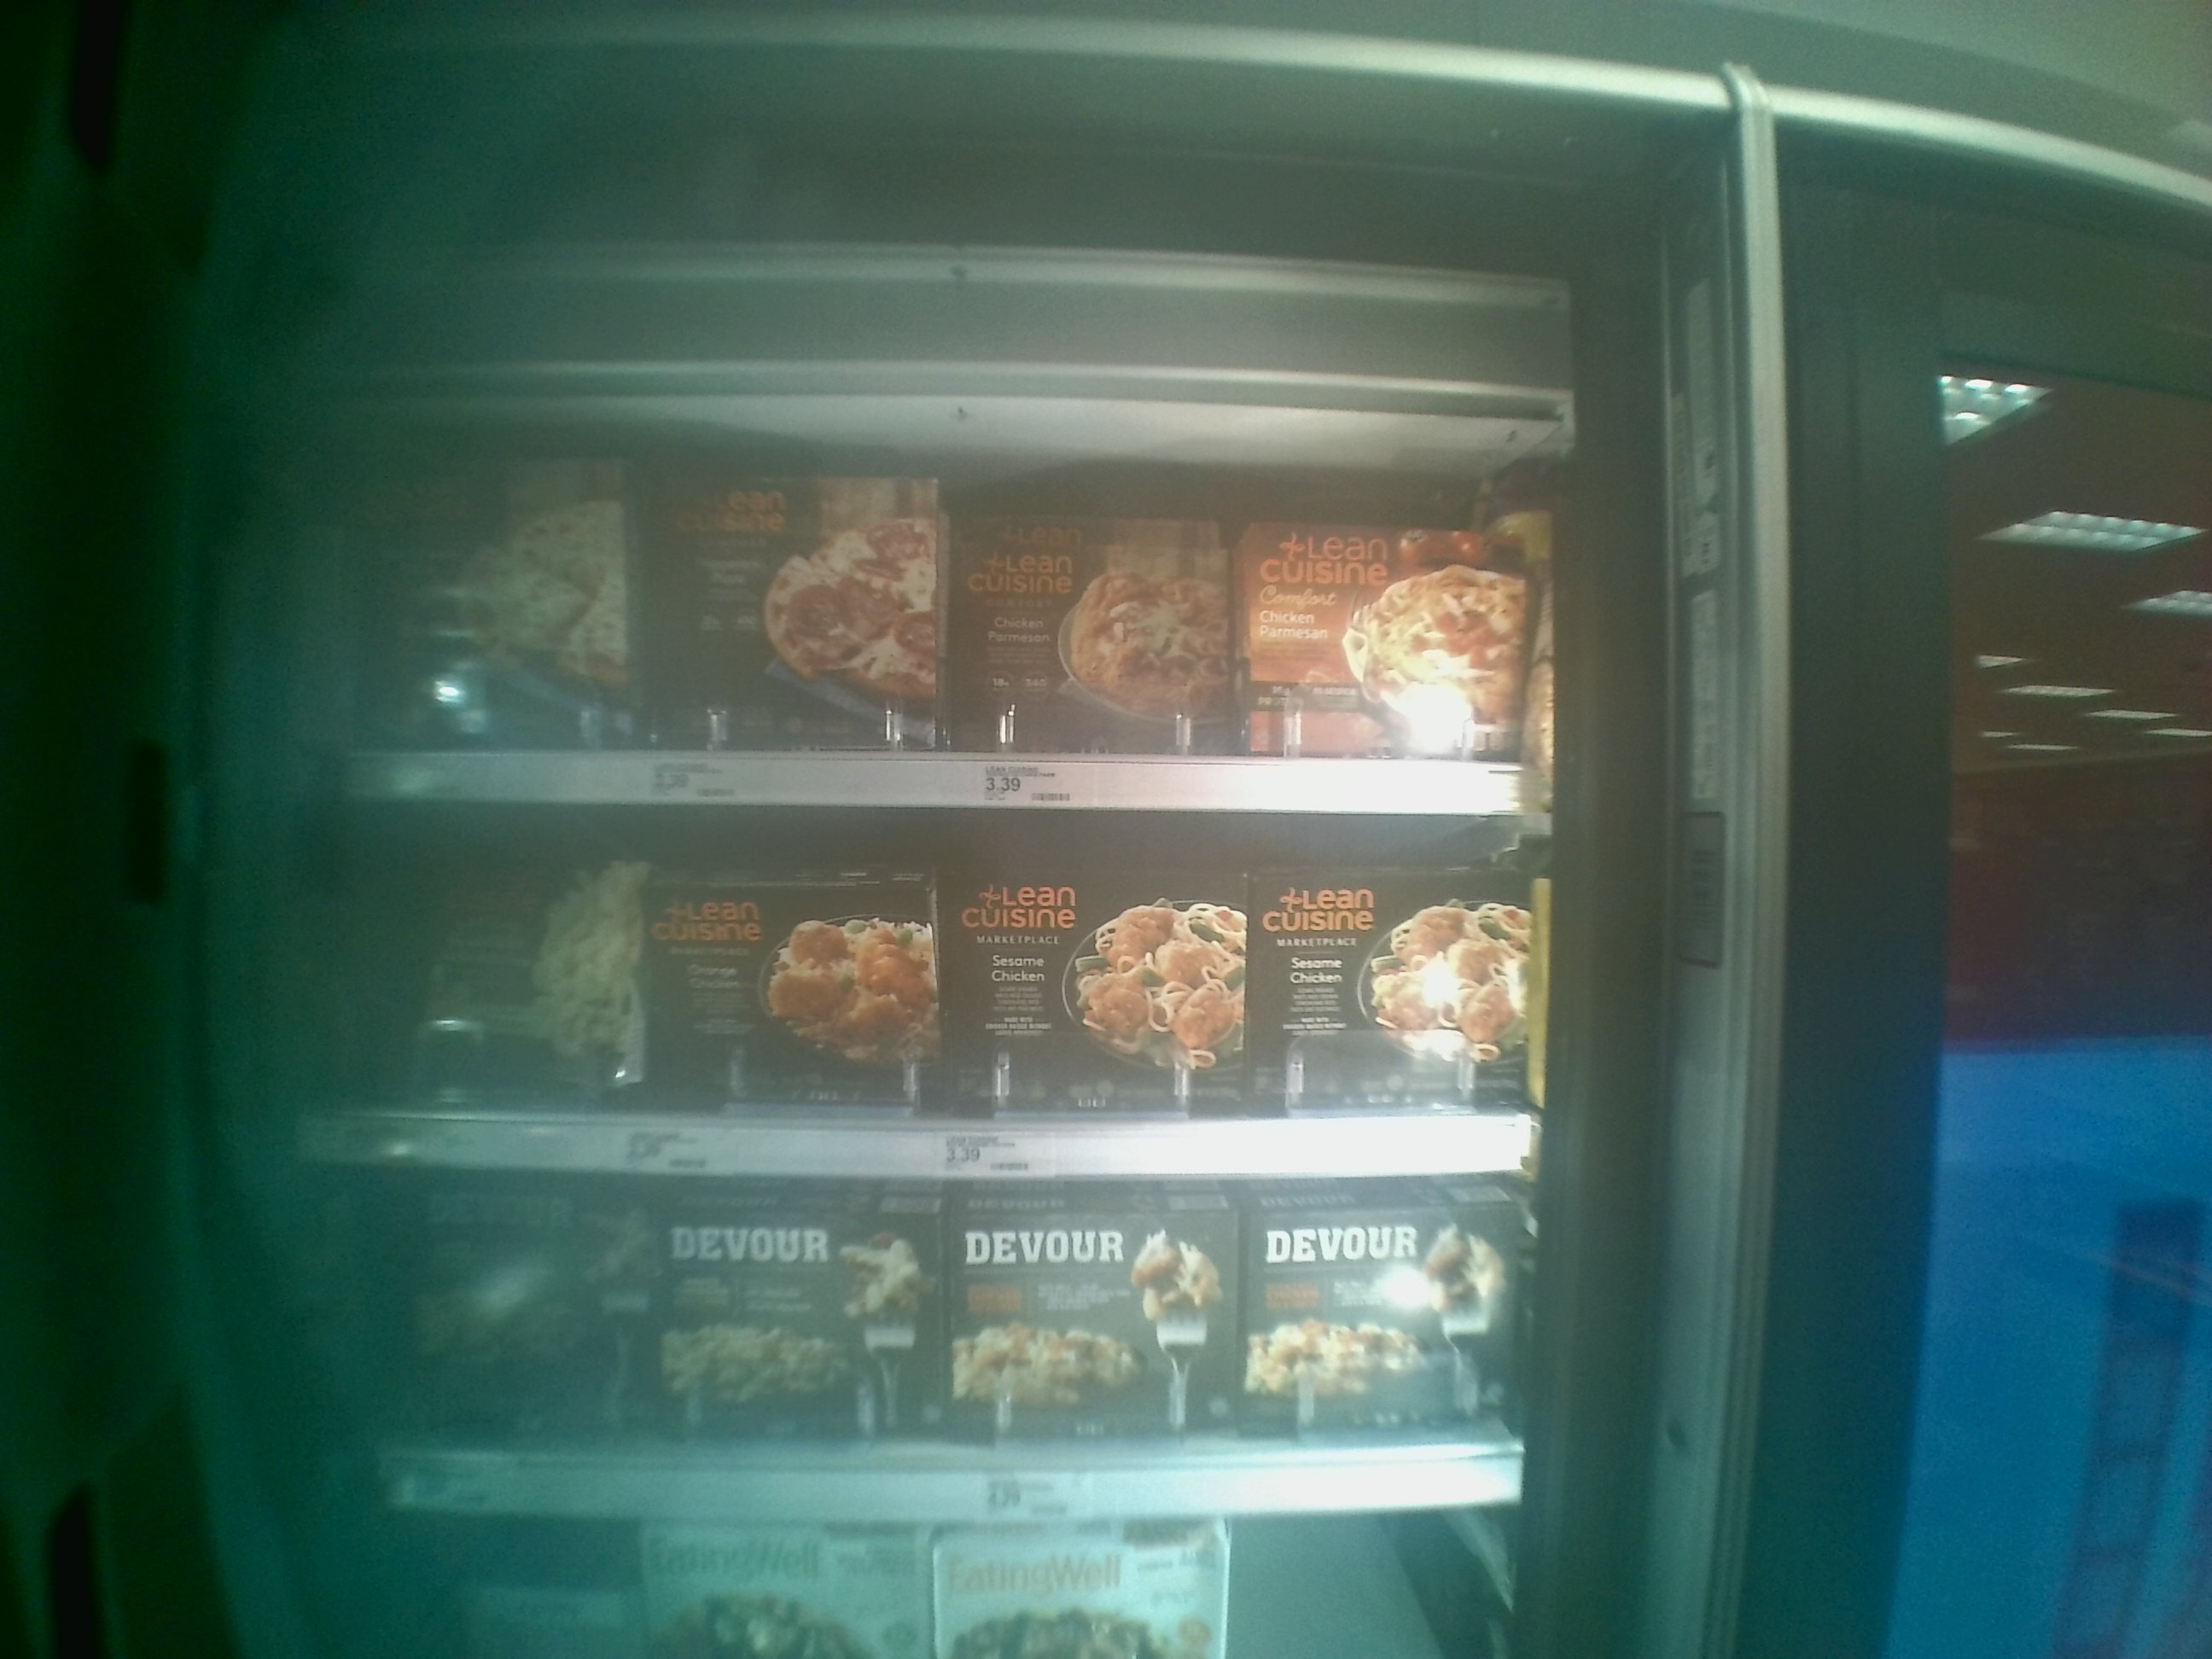shelf: (324, 376, 1536, 819), (315, 1166, 1550, 1535), (289, 807, 1529, 1173)
